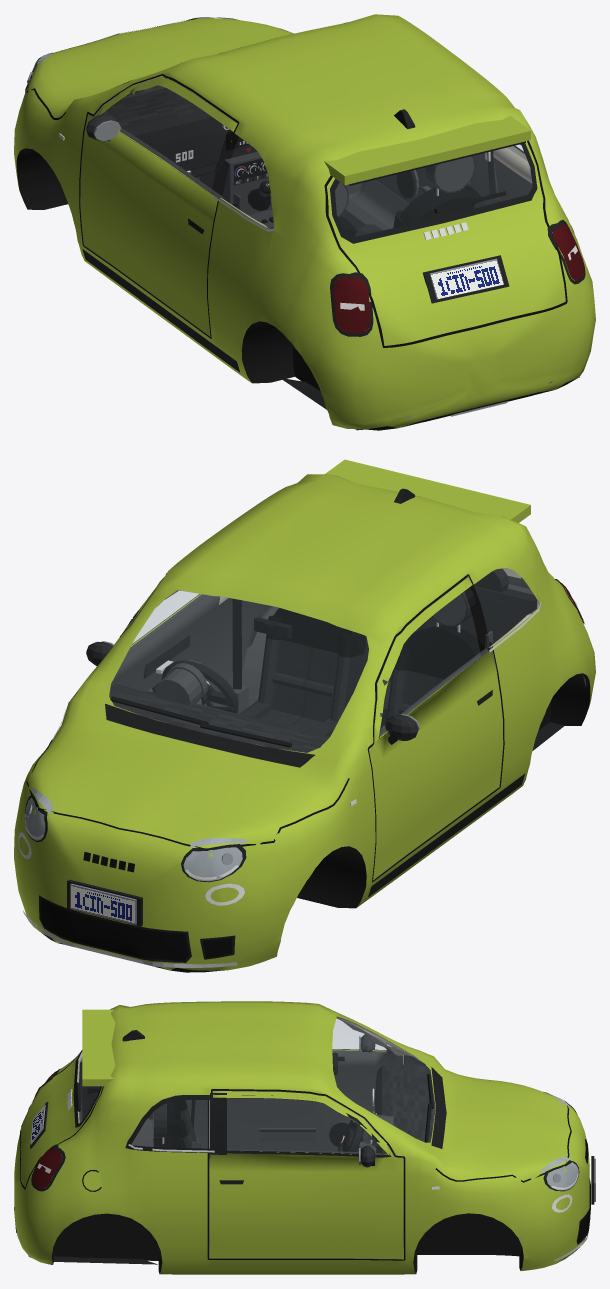
File: abarth500e.glb
The picture shows the model from 3 angles, top to bottom: view 1: azimuth 30°, elevation 25°; view 2: azimuth 150°, elevation 25°; view 3: azimuth 270°, elevation 25°; orthographic projection. The views are drawn at different scales.
Visible parts, largest first — view 1: Body, Door_L, Interior, Glass, Door_L_Glass, Lights_Tail, Door_R; view 2: Body, Glass, Interior, Door_L, Door_L_Glass, Door_R, Lights_Head, SteeringWheel; view 3: Body, Door_R, Glass, Door_L, Door_R_Glass, Interior, Lights_Head, Lights_Tail, SteeringWheel.
Boxes of the visible parts, box(x1,y1,x2,y2) form: Body: box(14, 14, 595, 430); Door_L: box(80, 76, 237, 336); Interior: box(106, 88, 502, 237); Glass: box(222, 137, 531, 236); Door_L_Glass: box(104, 86, 227, 192); Lights_Tail: box(333, 223, 584, 333); Door_R: box(375, 153, 498, 204); Body: box(14, 459, 595, 972); Glass: box(109, 568, 538, 752); Interior: box(109, 568, 537, 752); Door_L: box(369, 576, 503, 880); Door_L_Glass: box(380, 592, 480, 734); Door_R: box(86, 577, 220, 706); Lights_Head: box(25, 787, 246, 881); SteeringWheel: box(161, 660, 238, 713); Body: box(14, 1001, 595, 1274); Door_R: box(209, 1090, 403, 1259); Glass: box(78, 1018, 434, 1147); Door_L: box(209, 1019, 403, 1151); Door_R_Glass: box(227, 1098, 385, 1154); Interior: box(79, 1052, 432, 1256); Lights_Head: box(539, 1091, 578, 1190); Lights_Tail: box(32, 1071, 62, 1188); SteeringWheel: box(337, 1120, 364, 1151).
Bounding box in the file's own units: 1.88 × 1.41 × 3.74.
38 materials, 14 textured.
